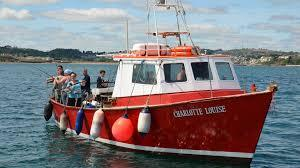fishing boat: (42, 0, 279, 168)
